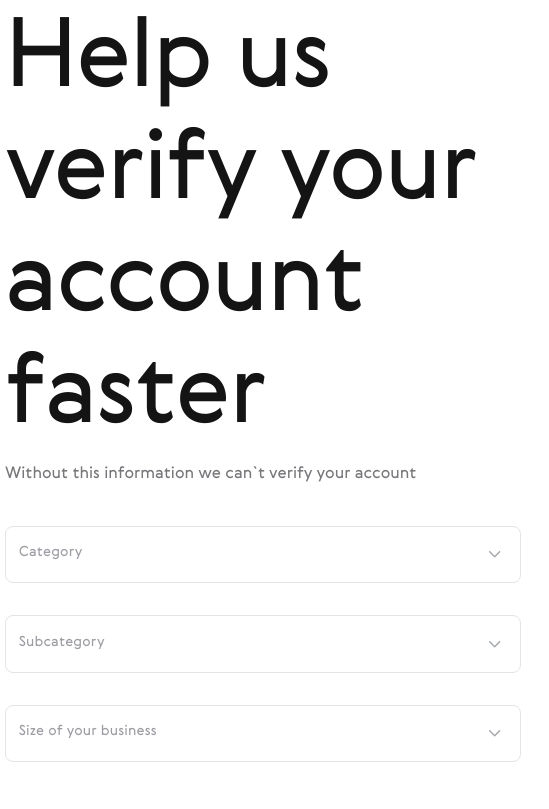
Test case: VerifyAccount Component › updates selected category when category is changed
Click the dropdown "Category".
click(51, 552)  # box left=19, top=545, right=83, bottom=559
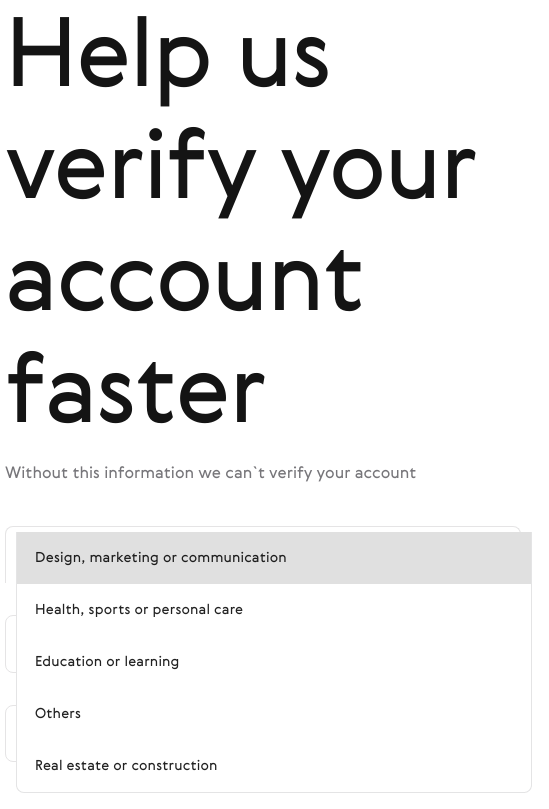
Click the option "Others".
click(58, 714)  # box left=35, top=707, right=81, bottom=721
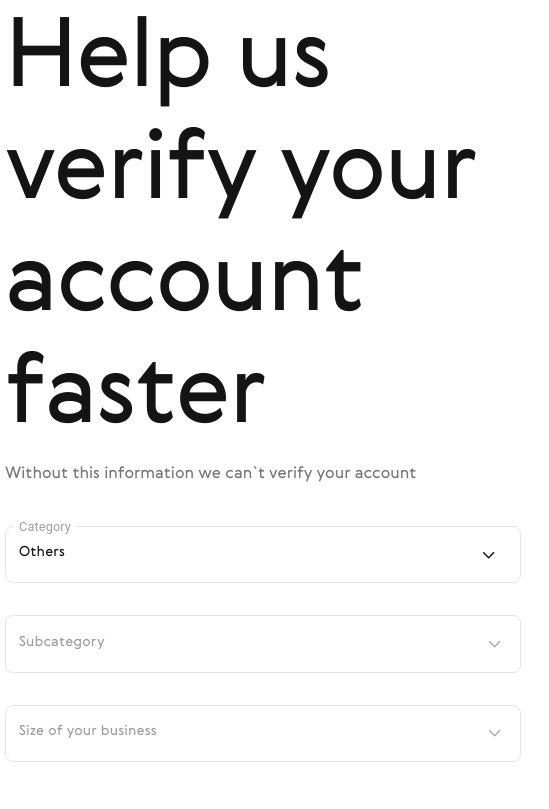
Expected: the text "Category" reads "Others", left=19, top=545, right=65, bottom=559
